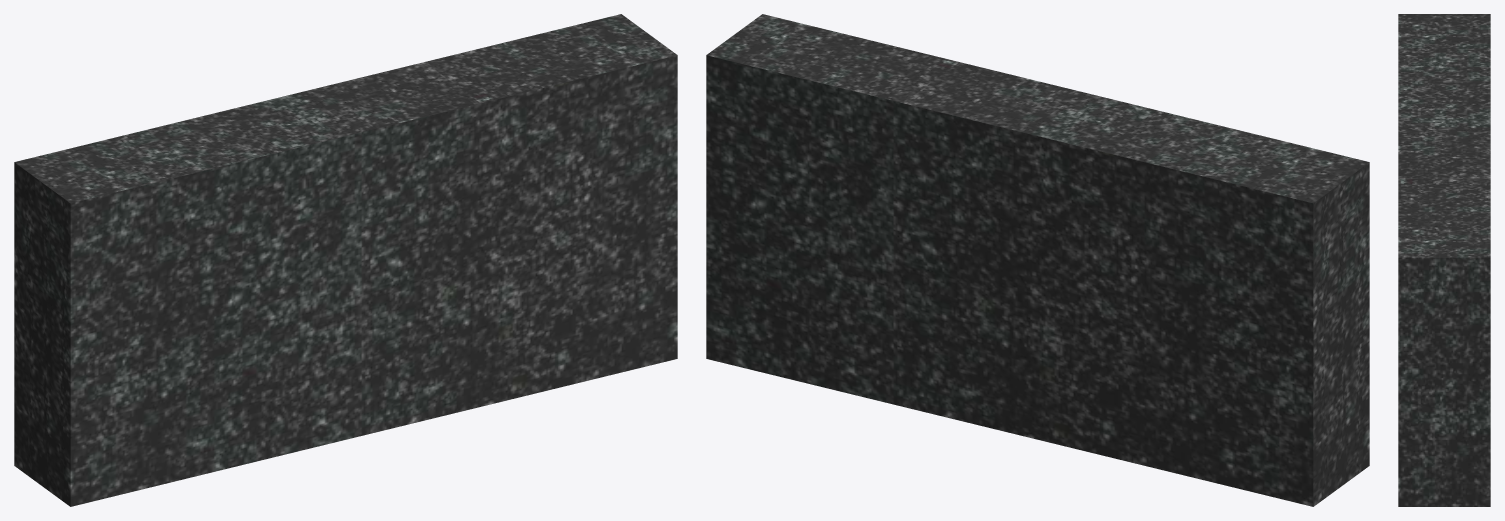
File: grave_sodeishi_wall.fbx
The picture shows the model from 3 angles, left to right: view 1: azimuth 30°, elevation 25°; view 2: azimuth 150°, elevation 25°; view 3: azimuth 270°, elevation 25°; orthographic projection. The views are drawn at different scales.
Parts seen in each view (by area): view 1: sodeishi_wall; view 2: sodeishi_wall; view 3: sodeishi_wall.
Boxes of the visible parts, x1,y1,x2,y2 form: sodeishi_wall: [14, 14, 677, 506]; sodeishi_wall: [706, 14, 1369, 506]; sodeishi_wall: [1398, 14, 1490, 506].
Bounding box in the file's own units: 1.61 × 0.7708 × 0.2592.
